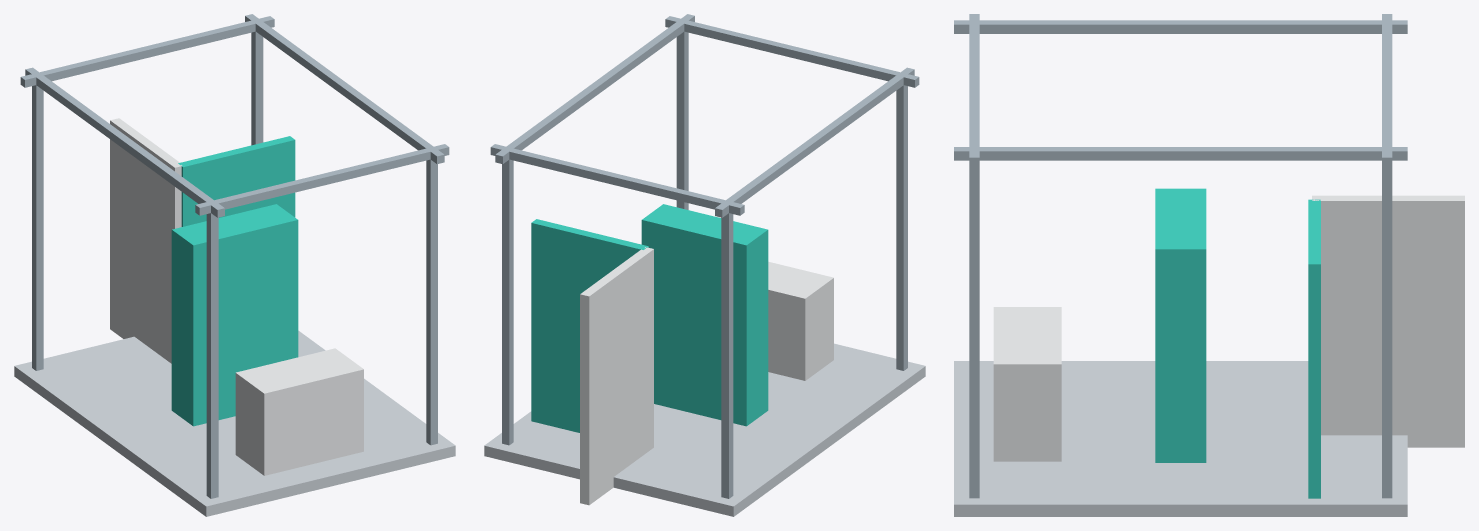
3 views of the same model, side by side, from view 1: azimuth 30°, elevation 25°; view 2: azimuth 150°, elevation 25°; view 3: azimuth 270°, elevation 25° (orthographic). The views are drawn at different scales.
Parts seen in each view (by area): view 1: Exhibition Booth Concept; view 2: Exhibition Booth Concept; view 3: Exhibition Booth Concept.
Part boxes in pixels (left/top/right/bottom): Exhibition Booth Concept: left=14, top=14, right=455, bottom=516; Exhibition Booth Concept: left=484, top=14, right=925, bottom=516; Exhibition Booth Concept: left=954, top=14, right=1464, bottom=516.
Size of the model in its own units: 3 by 3.49 by 4.51.
